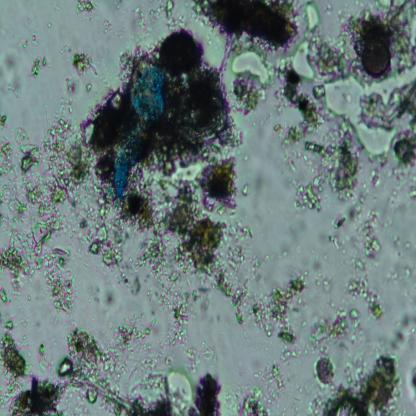Air bubble: (319, 71, 416, 155), (233, 52, 273, 86), (294, 40, 316, 82), (305, 4, 321, 31)
Background material: (0, 114, 113, 314), (166, 199, 235, 292), (171, 67, 236, 156), (122, 359, 224, 415), (321, 352, 401, 416), (224, 223, 267, 336), (109, 232, 173, 306), (197, 1, 300, 45), (255, 269, 307, 347), (278, 70, 320, 157), (55, 324, 114, 382), (362, 147, 416, 208), (243, 352, 305, 404), (326, 187, 368, 258), (322, 124, 360, 195), (197, 156, 240, 210), (389, 288, 416, 365), (309, 305, 350, 352), (10, 380, 66, 414), (159, 292, 193, 348), (118, 190, 156, 236), (386, 231, 416, 287), (350, 272, 383, 319), (0, 47, 30, 98), (122, 3, 159, 44), (276, 220, 305, 264), (245, 162, 271, 210), (0, 338, 30, 378), (294, 174, 324, 213), (313, 254, 340, 295), (57, 76, 82, 119), (232, 80, 263, 114), (240, 386, 272, 415), (116, 319, 142, 353), (360, 220, 382, 260), (192, 282, 214, 321), (394, 365, 416, 403), (70, 53, 100, 78), (29, 50, 51, 80), (316, 356, 336, 388), (353, 318, 371, 352), (186, 350, 214, 370), (76, 0, 99, 21), (15, 32, 43, 48), (164, 0, 175, 23), (237, 179, 248, 197), (82, 84, 92, 92)
Diatom: (161, 28, 198, 76), (363, 38, 391, 76)
Fragment: (112, 56, 170, 201)
